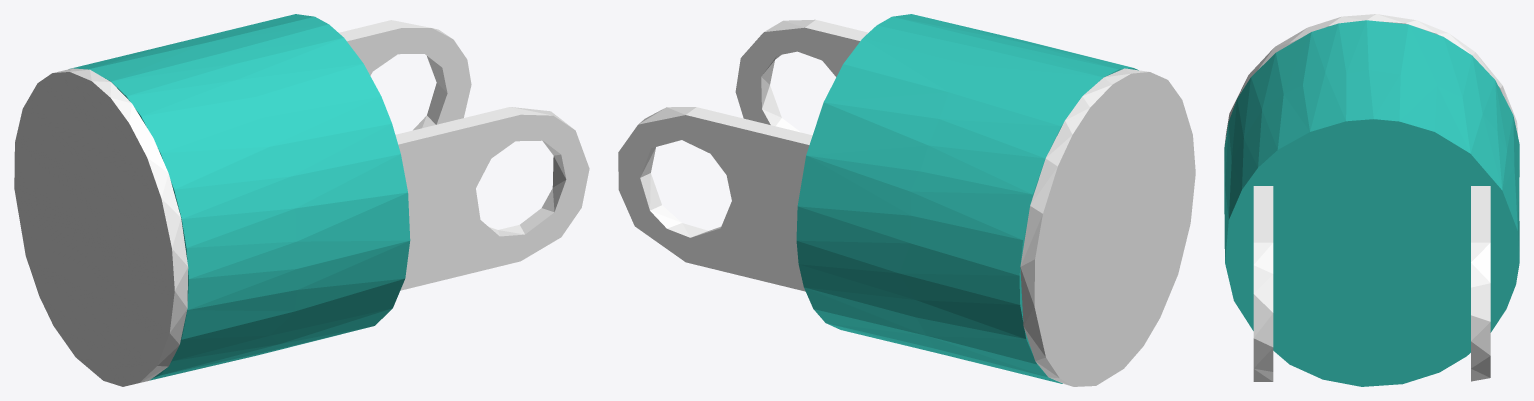
File: arm_upper_sinister_collision.obj
3 renders of one model, left to right at view 1: azimuth 30°, elevation 25°; view 2: azimuth 150°, elevation 25°; view 3: azimuth 270°, elevation 25°, orthographic. The views are drawn at different scales.
Visible parts, largest first — view 1: Body4, Body1, Body5, Body6; view 2: Body4, Body1, Body6, Body5; view 3: Body4, Body5, Body6, Body1.
Boxes of the visible parts, x1,y1,x2,y2 form: Body4: [70, 14, 410, 380]; Body1: [14, 68, 188, 386]; Body5: [395, 107, 589, 290]; Body6: [339, 20, 471, 130]; Body4: [796, 14, 1138, 383]; Body1: [1020, 68, 1195, 386]; Body6: [618, 107, 812, 291]; Body5: [735, 19, 868, 132]; Body4: [1224, 20, 1519, 386]; Body5: [1253, 186, 1273, 381]; Body6: [1471, 186, 1490, 381]; Body1: [1224, 14, 1517, 144].
Bounding box in the file's own units: 18.47 × 11.98 × 11.97.
